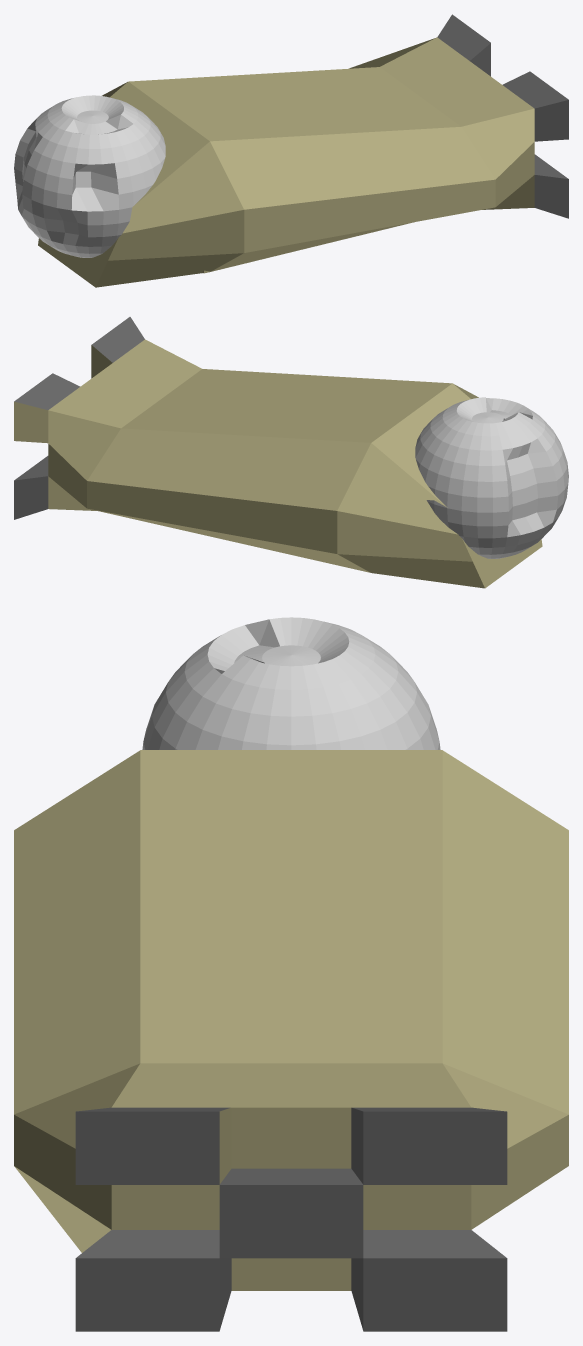
File: statek1.fbx
The picture shows the model from 3 angles, top to bottom: view 1: azimuth 30°, elevation 25°; view 2: azimuth 150°, elevation 25°; view 3: azimuth 270°, elevation 25°; orthographic projection. The views are drawn at different scales.
Parts seen in each view (by area): view 1: Cube, Sphere; view 2: Cube, Sphere; view 3: Cube, Sphere.
Part boxes in pixels (x1,y1,x2,y2): Cube: (38, 14, 568, 287); Sphere: (14, 95, 165, 257); Cube: (14, 317, 542, 588); Sphere: (415, 397, 568, 558); Cube: (14, 750, 568, 1331); Sphere: (142, 617, 440, 749).
Size of the model in its own units: 690 by 229 by 367.
